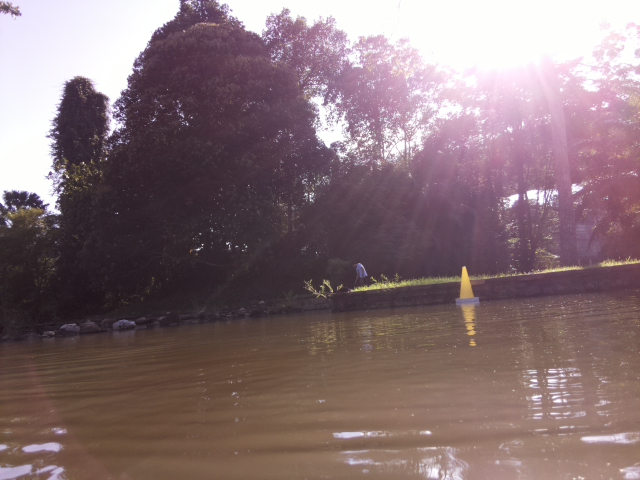checkpoint: (454, 264, 482, 305)
